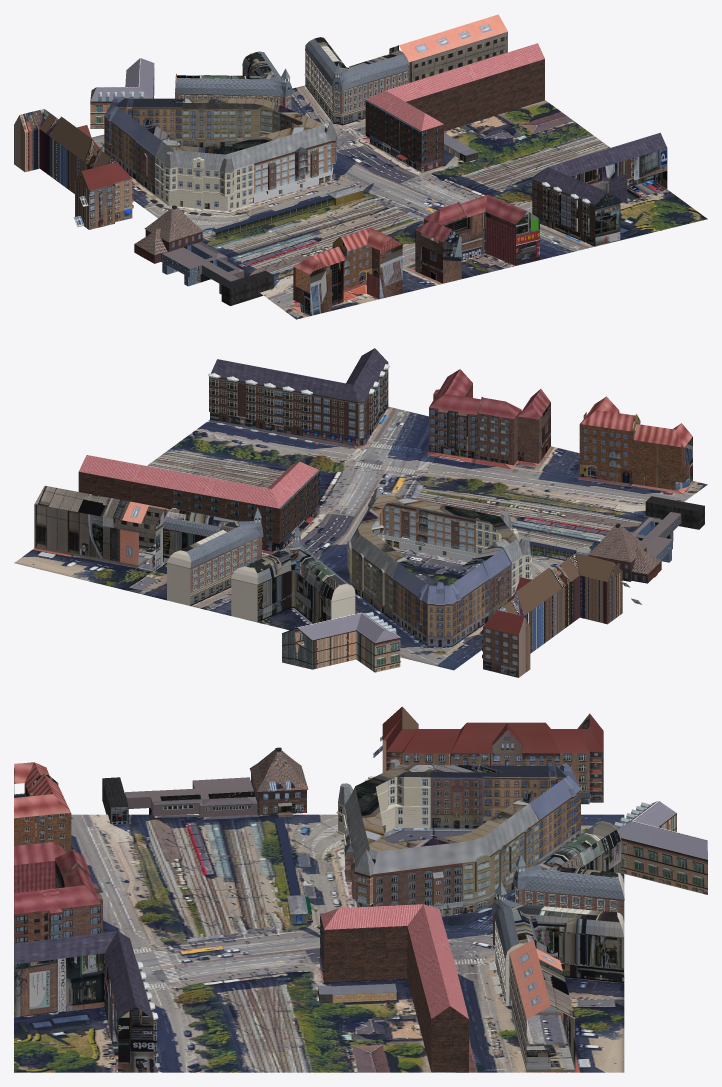
File: Map_Buildings_Stage_32.fbx
3 renders of one model, top to bottom at view 1: azimuth 30°, elevation 25°; view 2: azimuth 150°, elevation 25°; view 3: azimuth 270°, elevation 25°, orthographic. The views are drawn at different scales.
Parts seen in each view (by area): view 1: Capture, Plane.003, Plane.007, Plane, Plane.018, Plane.001, Plane.002, Plane.010, Plane.005, Plane.012, Plane.006, Plane.004 (+3 smaller); view 2: Capture, Plane, Plane.003, Plane.007, Plane.018, Plane.006, Plane.001, Plane.012, Plane.002, Plane.005, Plane.004, Plane.011 (+1 smaller); view 3: Capture, Plane.003, Plane.007, Plane, Plane.018, Plane.012, Plane.005, Plane.010, Plane.001, Plane.004, Plane.006, Plane.011 (+4 smaller).
Boxes of the visible parts, left/top/right/bottom form: Capture: left=92, top=85, right=707, bottom=319; Plane.003: left=155, top=98, right=336, bottom=210; Plane.007: left=364, top=43, right=544, bottom=172; Plane: left=532, top=132, right=667, bottom=246; Plane.018: left=14, top=109, right=133, bottom=229; Plane.001: left=415, top=194, right=539, bottom=283; Plane.002: left=293, top=227, right=402, bottom=315; Plane.010: left=134, top=205, right=273, bottom=305; Plane.005: left=304, top=37, right=409, bottom=125; Plane.012: left=104, top=96, right=183, bottom=194; Plane.006: left=389, top=14, right=507, bottom=82; Plane.004: left=175, top=51, right=293, bottom=109; Capture: left=14, top=406, right=707, bottom=670; Plane: left=208, top=348, right=389, bottom=445; Plane.003: left=347, top=486, right=531, bottom=620; Plane.007: left=78, top=455, right=320, bottom=551; Plane.018: left=482, top=553, right=622, bottom=677; Plane.006: left=34, top=485, right=169, bottom=570; Plane.001: left=429, top=369, right=550, bottom=465; Plane.012: left=392, top=545, right=512, bottom=647; Plane.002: left=579, top=396, right=692, bottom=490; Plane.005: left=162, top=507, right=263, bottom=605; Plane.004: left=230, top=525, right=355, bottom=623; Plane.011: left=282, top=612, right=400, bottom=672; Capture: left=14, top=814, right=624, bottom=1072; Plane.003: left=336, top=759, right=538, bottom=916; Plane.007: left=319, top=904, right=468, bottom=1072; Plane: left=14, top=931, right=158, bottom=1072; Plane.018: left=382, top=706, right=603, bottom=804; Plane.012: left=430, top=763, right=581, bottom=861; Plane.005: left=491, top=882, right=624, bottom=1005; Plane.010: left=102, top=747, right=308, bottom=824; Plane.001: left=14, top=842, right=102, bottom=943; Plane.004: left=513, top=821, right=624, bottom=921; Plane.006: left=509, top=939, right=575, bottom=1072; Plane.011: left=614, top=801, right=707, bottom=894.
Size of the model in its own units: 2985 by 411 by 2843.
